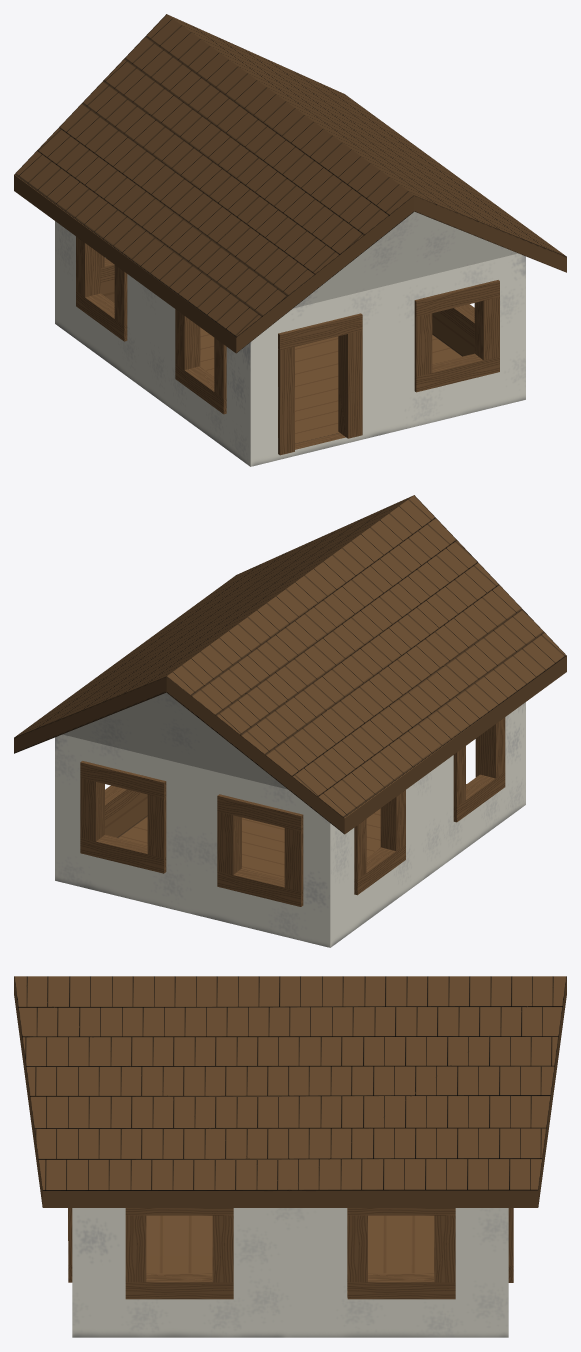
File: adrians_house.fbx
3 renders of one model, top to bottom at view 1: azimuth 30°, elevation 25°; view 2: azimuth 150°, elevation 25°; view 3: azimuth 270°, elevation 25°, orthographic. The views are drawn at different scales.
Parts seen in each view (by area): view 1: roof, exterior, interior, door, window.004, window.003, window.002, window; view 2: roof, exterior, window.006, window.005, interior, window.003, window.002, window.001; view 3: roof, exterior, interior, window, window.001.
Boxes of the visible parts, x1,y1,x2,y2 form: roof: (14,14,566,353); exterior: (55,211,525,466); interior: (100,280,474,443); door: (278,313,362,455); window.004: (414,280,499,392); window.003: (175,309,226,414); window.002: (76,236,127,341); window: (440,304,474,338); roof: (14,495,566,834); exterior: (55,692,525,947); window.006: (217,794,303,906); window.005: (80,761,166,873); interior: (105,792,380,878); window.003: (453,717,505,822); window.002: (354,790,405,895); window.001: (105,785,139,820); roof: (14,976,566,1207); exterior: (72,1208,508,1337); interior: (146,1215,434,1297); window: (125,1208,233,1299); window.001: (347,1208,455,1299).
Bounding box in the file's own units: 580 × 431 × 753.
